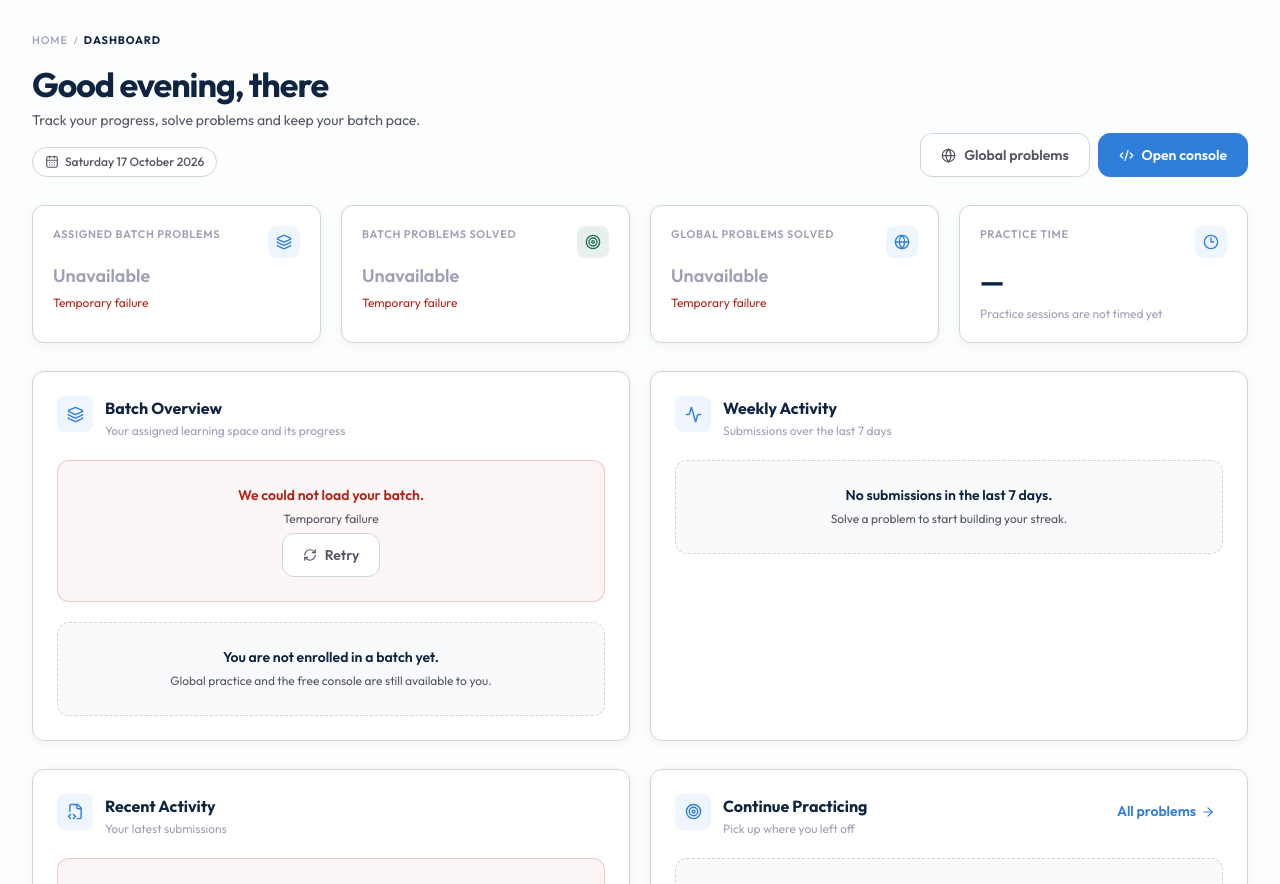
Test: a failing request recovers on retry
The image size is (1280, 884).
Check: the text "Temporary failure" below "Assigned batch problems" is shown, box [53,295,148,310]
Click the button "Retry" at (331, 555), box [282,533,380,577]
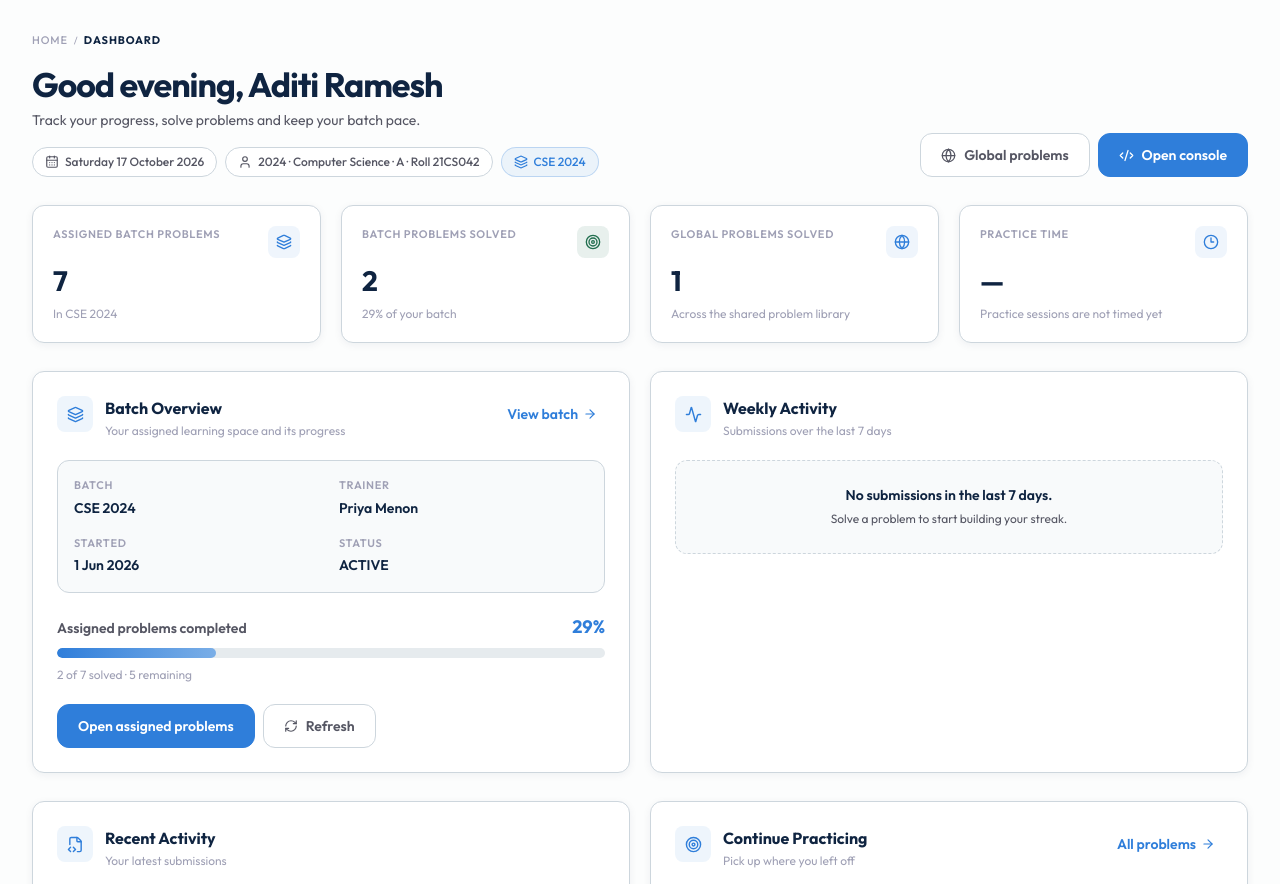
Check: the text "Priya Menon" is shown, box [339,499,418,517]
